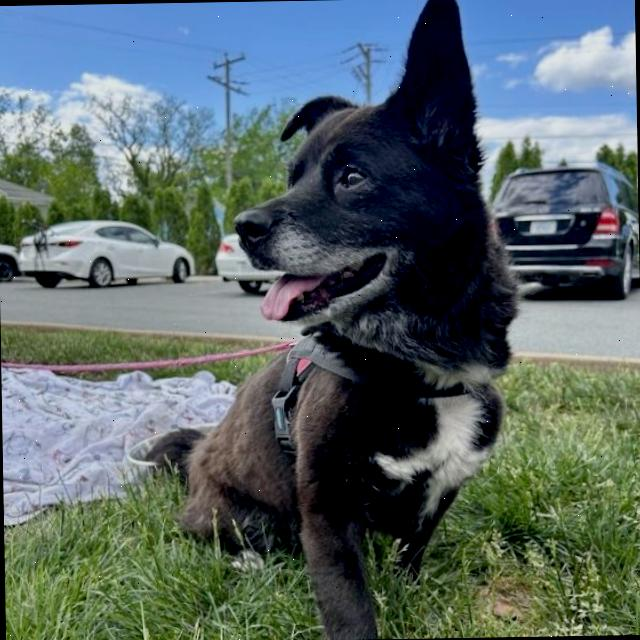corgi_dog: (211, 0, 522, 363)
